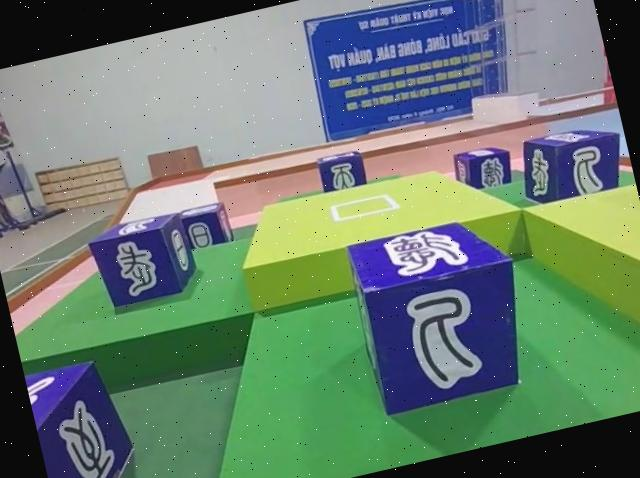R2 Fake Blue: (336, 206, 536, 422), (21, 349, 147, 478), (22, 352, 147, 478), (84, 209, 201, 313), (513, 118, 632, 209), (447, 143, 514, 197), (174, 200, 235, 254), (315, 146, 370, 194)
